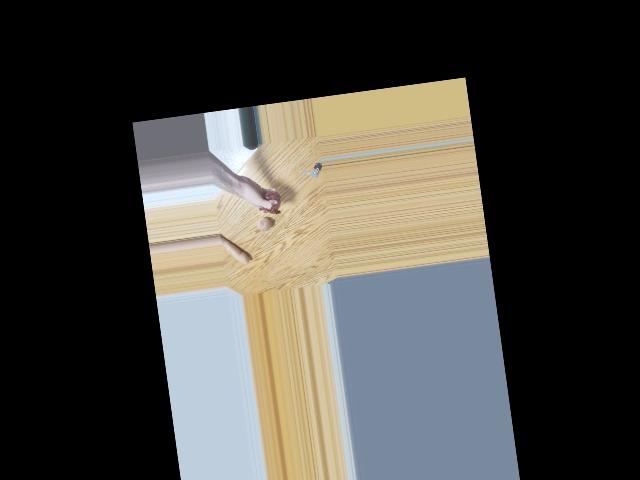onion: (256, 214, 272, 232)
